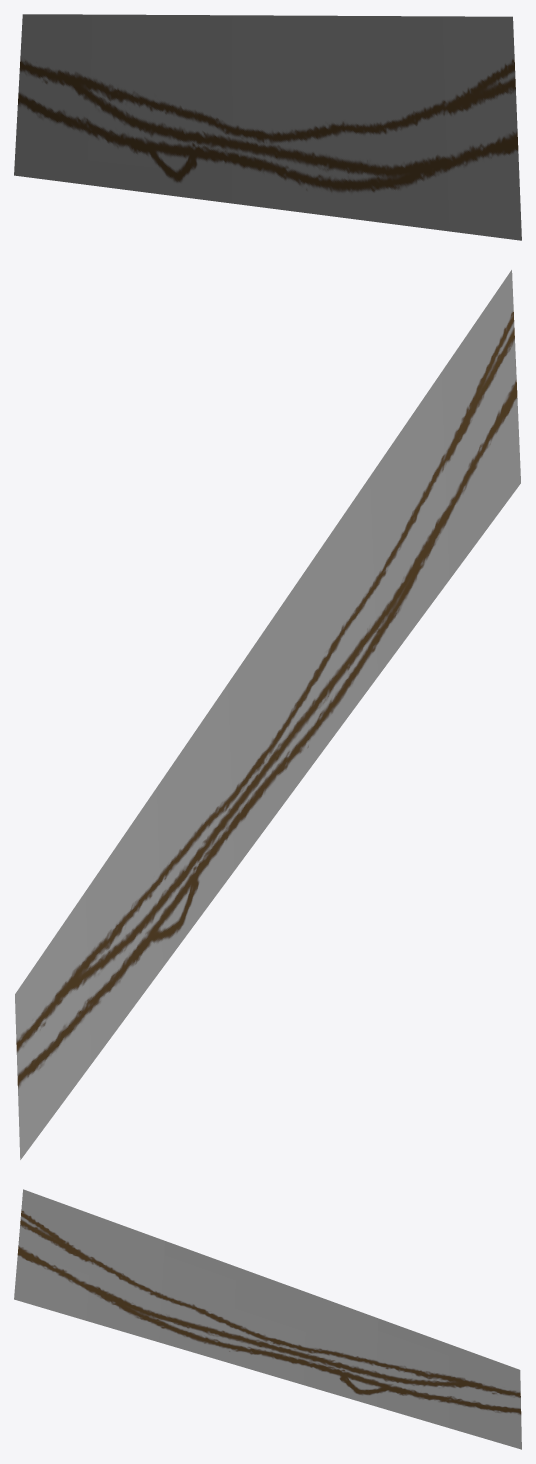
The model's file is SM_Rope_A02.fbx.
The picture shows the model from 3 angles, top to bottom: view 1: azimuth 30°, elevation 25°; view 2: azimuth 150°, elevation 25°; view 3: azimuth 270°, elevation 25°; orthographic projection. The views are drawn at different scales.
Parts seen in each view (by area): view 1: SM_Rope_A02_LOD0; view 2: SM_Rope_A02_LOD0; view 3: SM_Rope_A02_LOD0.
Part boxes in pixels (left/top/right/bottom): SM_Rope_A02_LOD0: left=14, top=14, right=521, bottom=240; SM_Rope_A02_LOD0: left=15, top=270, right=520, bottom=1159; SM_Rope_A02_LOD0: left=14, top=1189, right=521, bottom=1449.
Bounding box in the file's own units: 3.57 × 440 × 250.
1 material, 1 textured.
